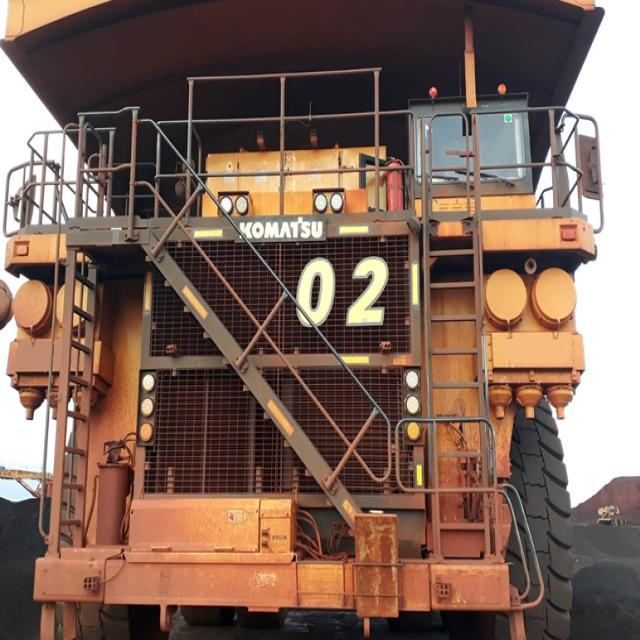dump_truck: (3, 6, 608, 639)
